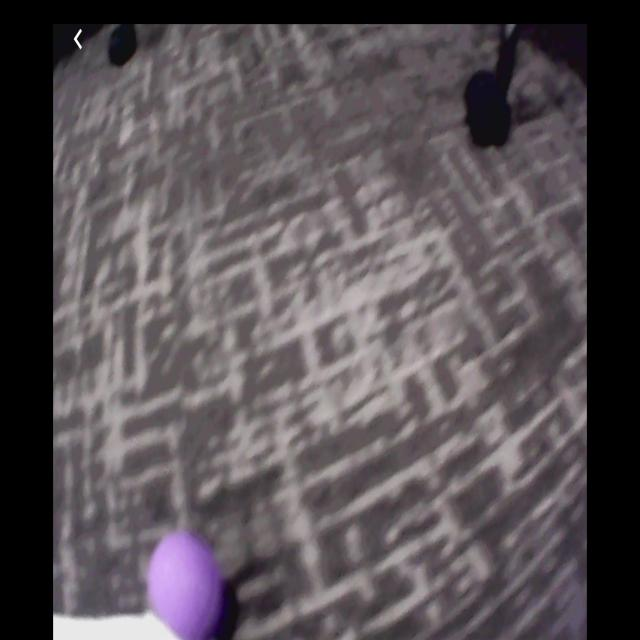ball: (146, 529, 227, 640)
